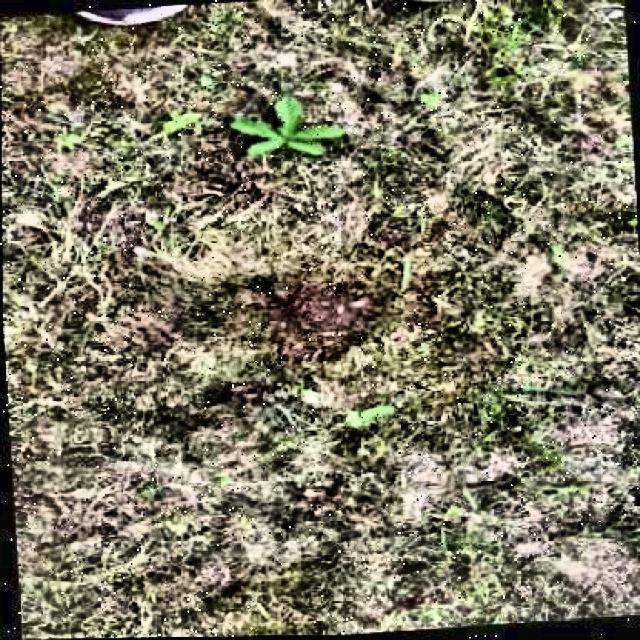Weeds: (224, 93, 344, 165)
